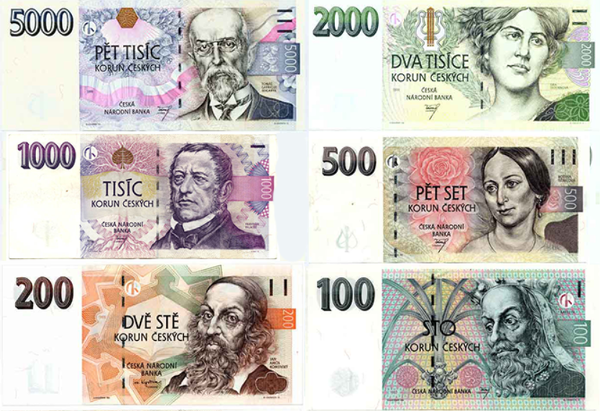czech_koruna_500: (310, 132, 593, 267)
